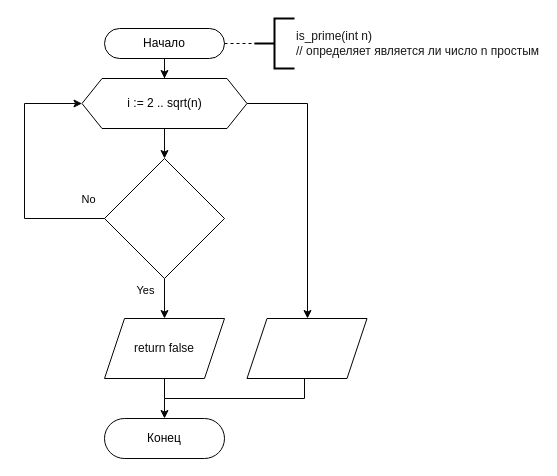
Some shapes in this 557 by 476 pixel diagram are drawn without their labels. The centre of each missing label's shape, as x and y in pixels:
n % i == 0: point (164, 218)
return true: point (306, 348)
